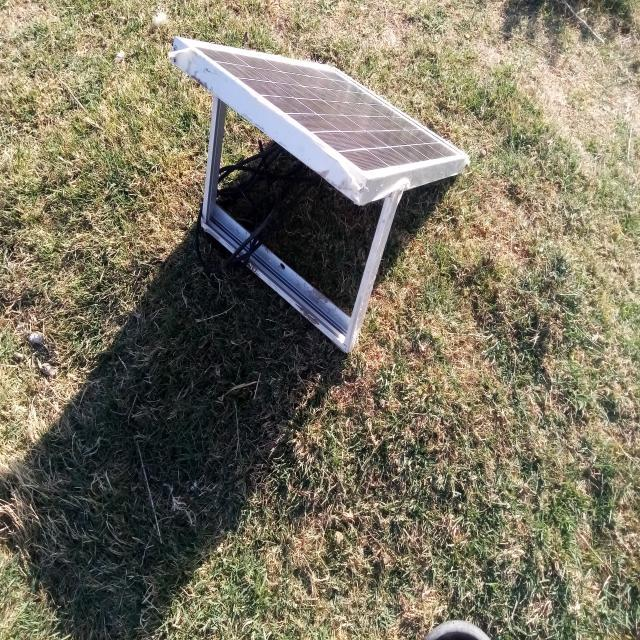no faulty: (175, 37, 468, 181)
